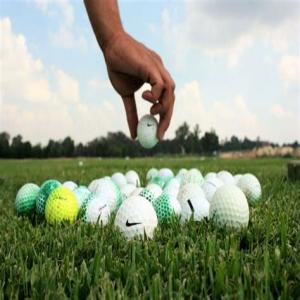Golf: (114, 194, 160, 239), (209, 186, 250, 231), (48, 185, 78, 225), (16, 182, 41, 216), (138, 114, 160, 150), (183, 197, 210, 225), (86, 201, 111, 228), (234, 178, 264, 200)
